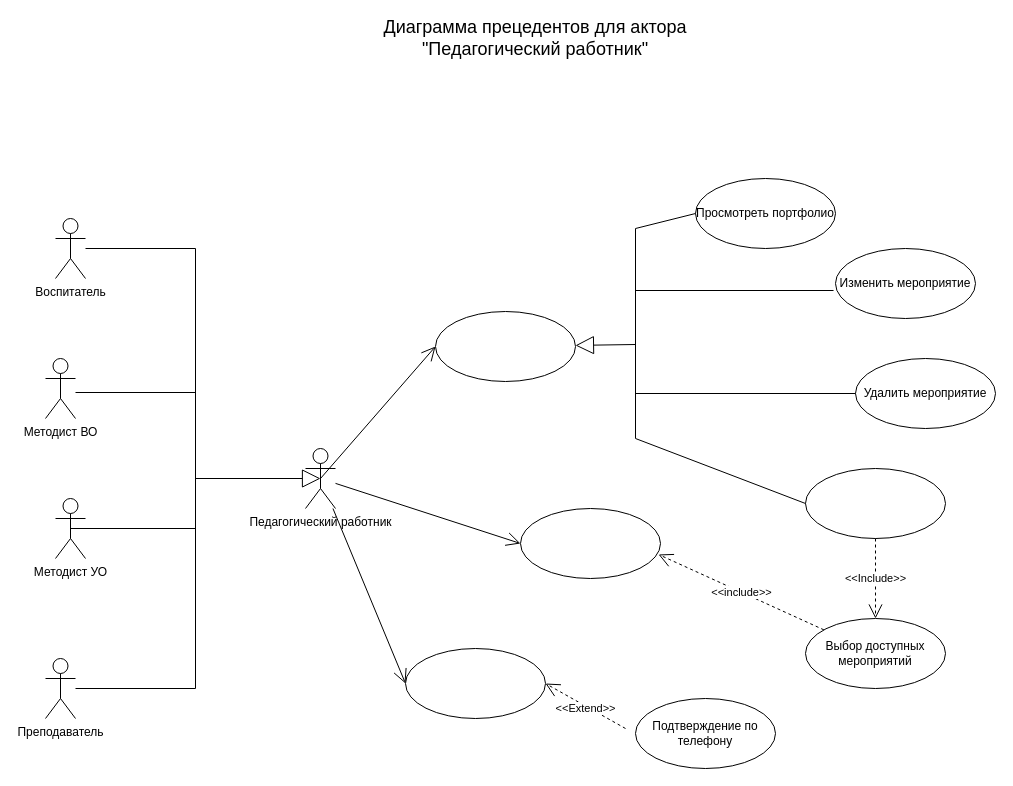
Image size: 1013x786. Some labels were removed from this diagram. The shapes that lost their labels are listed below. From the top down, each one's centre as x and y in pixels, then its label:
At pixel 505 346: "Управлять личным портфолио".
At pixel 875 503: "Добавить мероприятие".
At pixel 590 543: "Просмотреть доступные мероприятия".
At pixel 475 683: "Подтверждение мероприятия".
